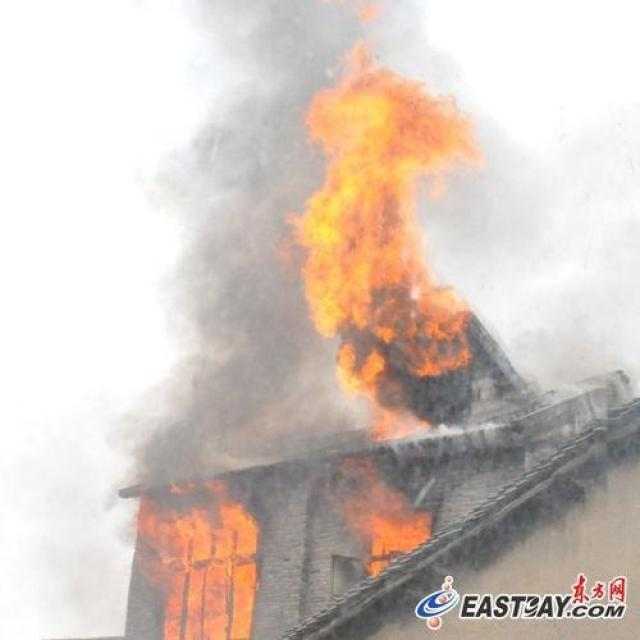Fire: (279, 33, 485, 442), (129, 480, 259, 640), (338, 463, 433, 580)
Smoke: (110, 1, 290, 483), (485, 219, 633, 405), (290, 6, 478, 38)
